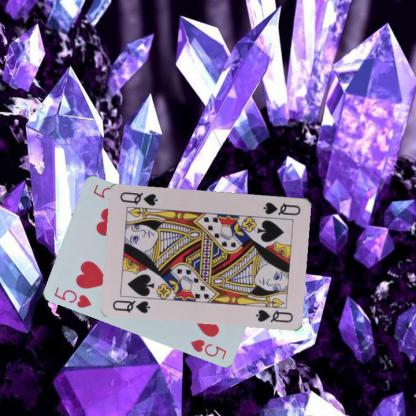5h: (52, 284, 93, 309)
Qs: (261, 199, 302, 217), (110, 297, 152, 314)
